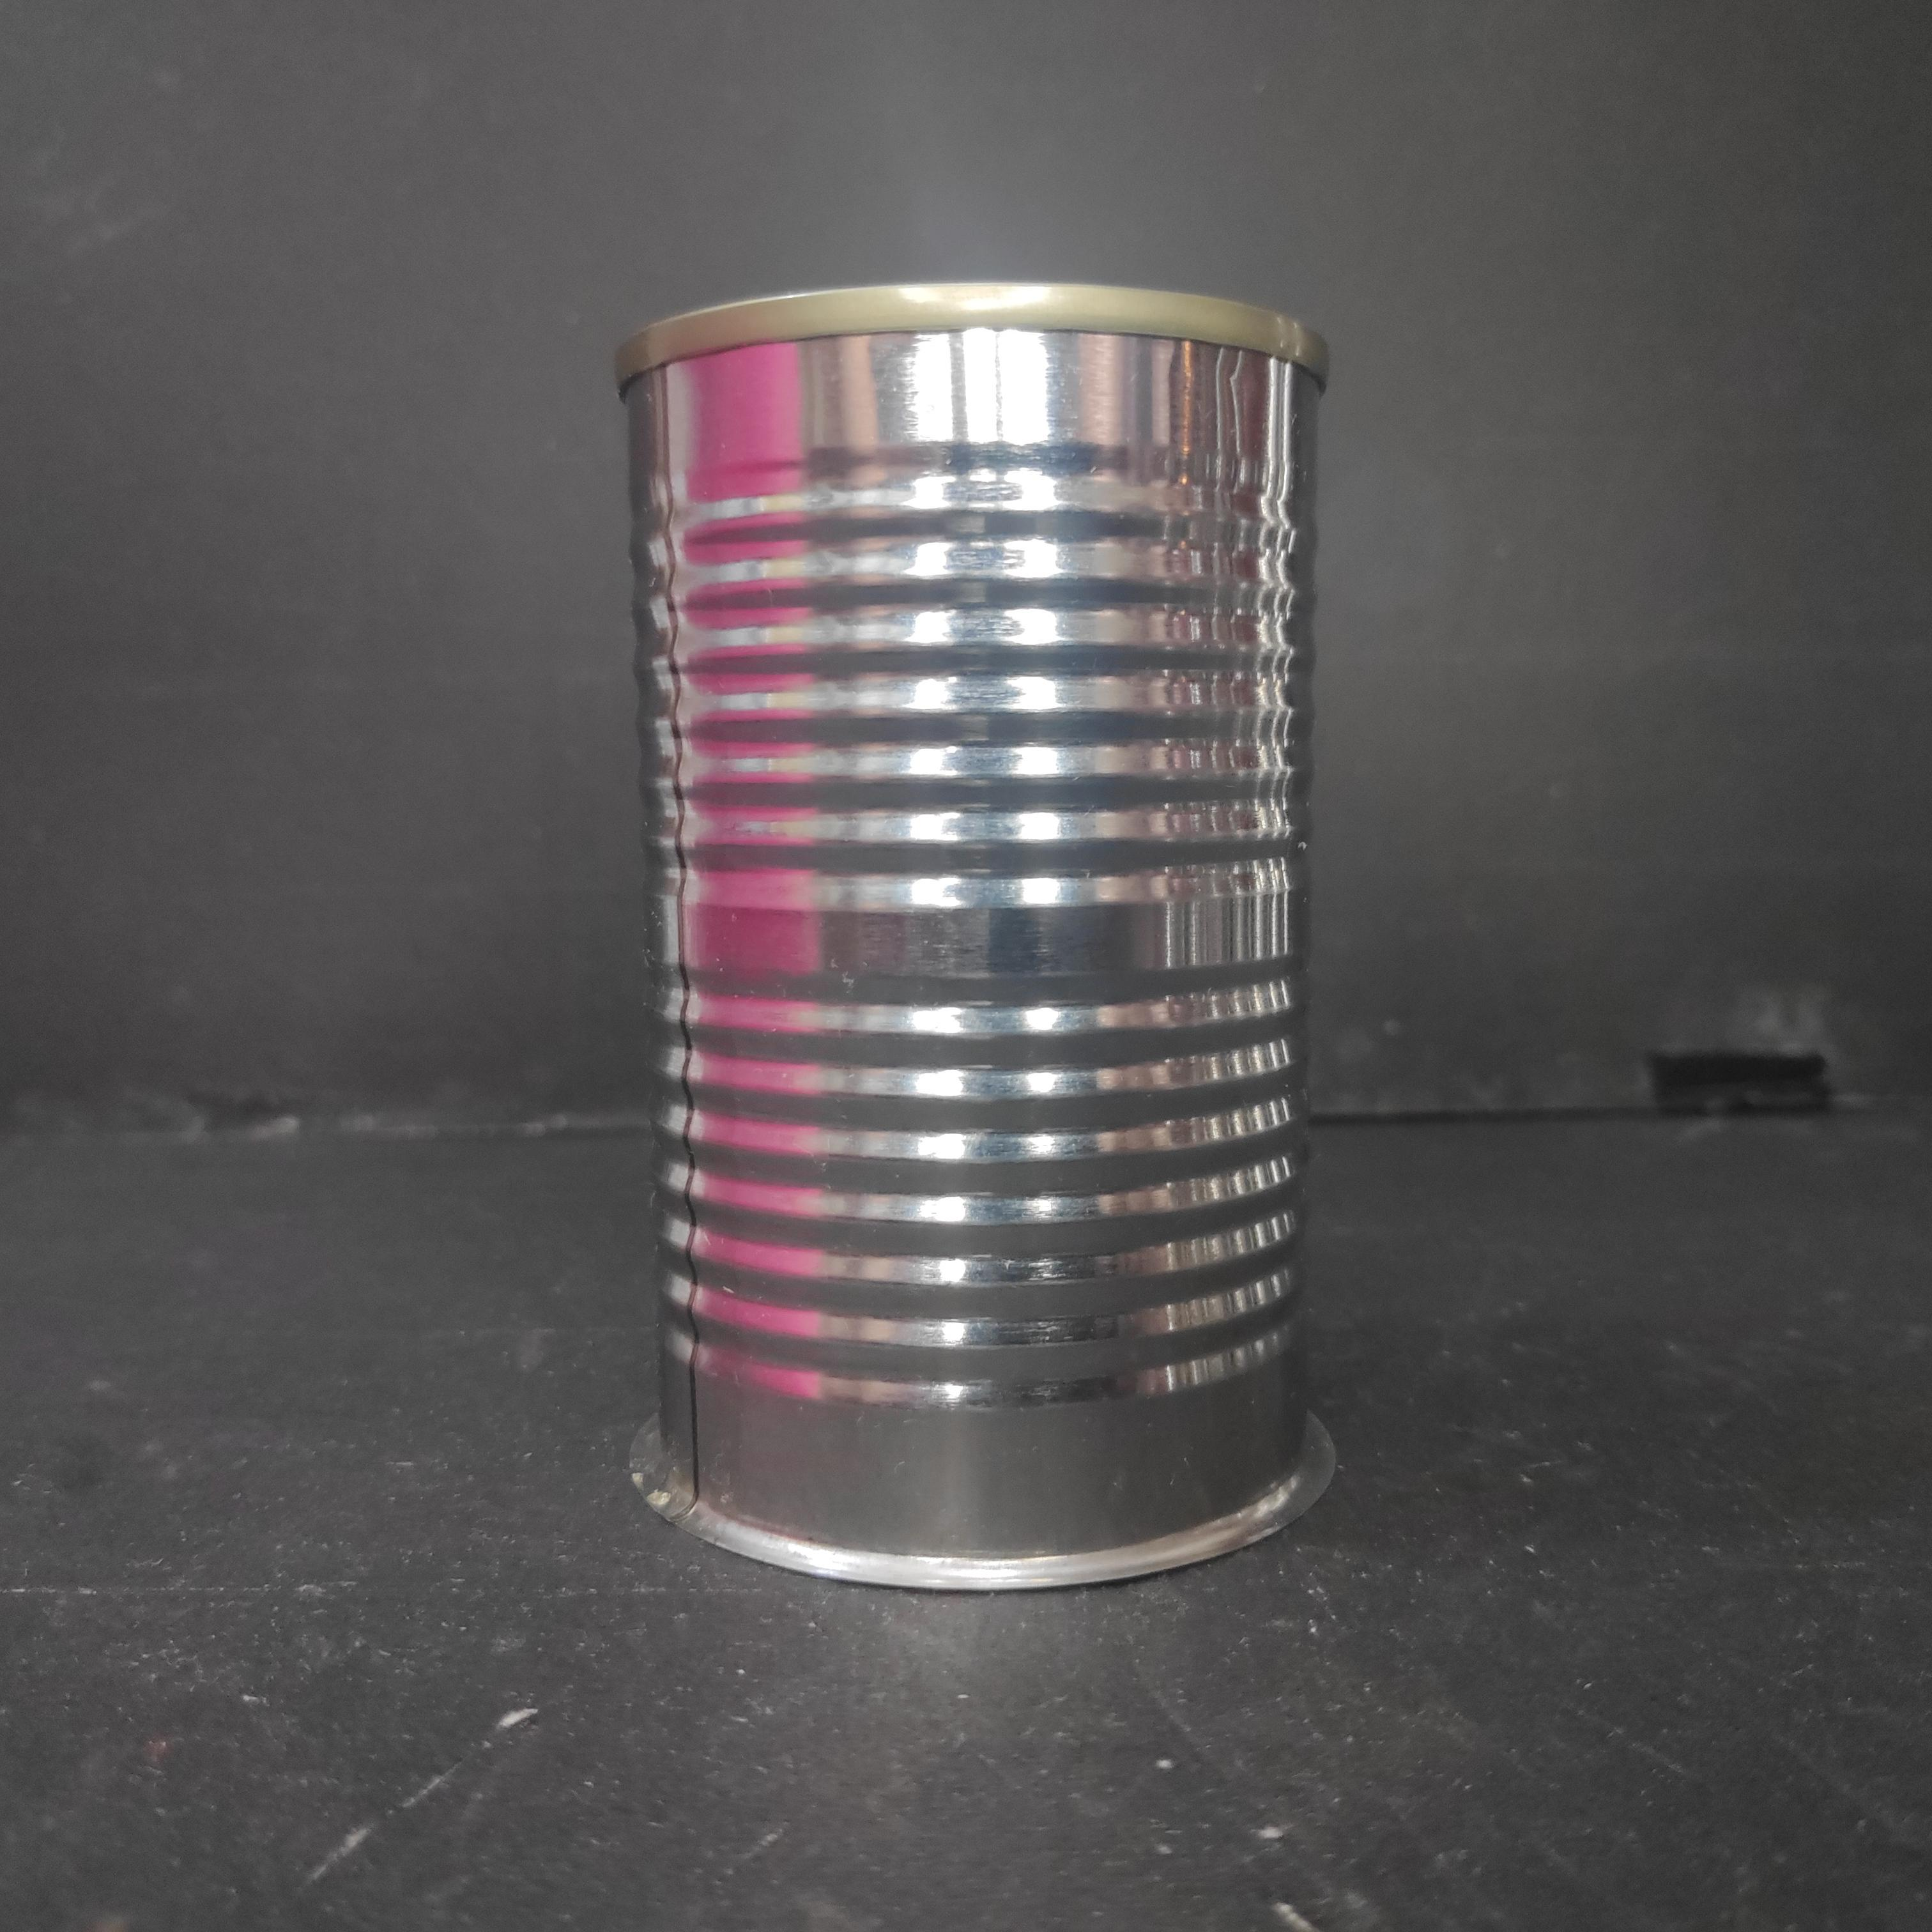No defect: (612, 269, 1338, 1615)
